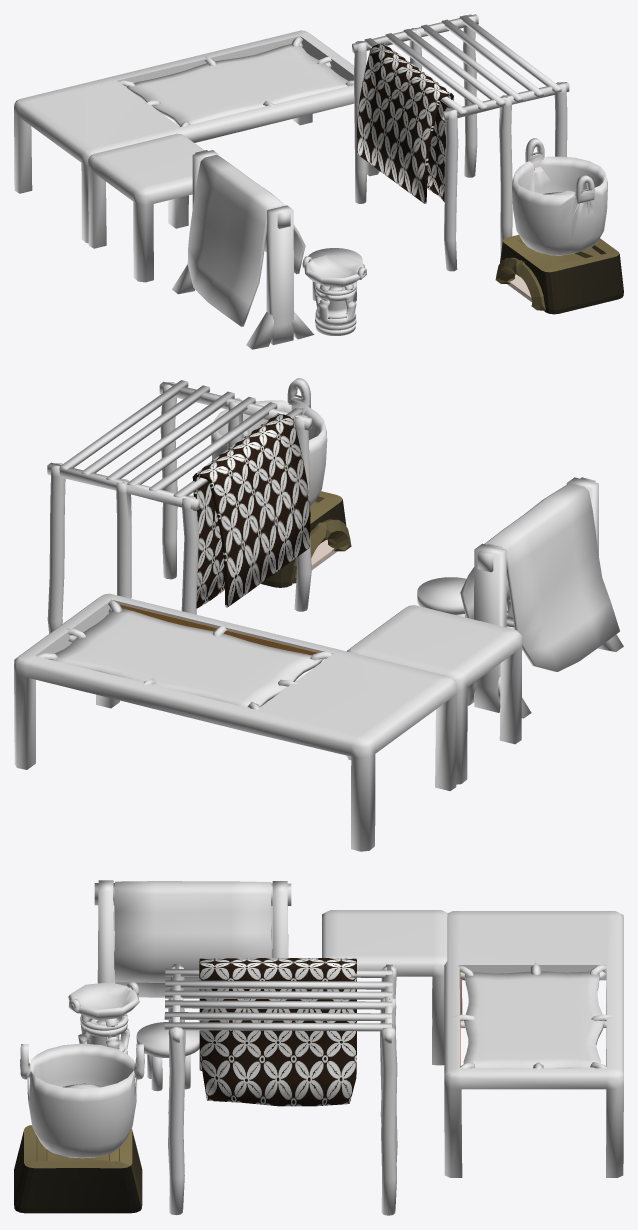
The model's file is Workspace lv1.fbx.
3 views of the same model, one above another, from view 1: azimuth 30°, elevation 25°; view 2: azimuth 150°, elevation 25°; view 3: azimuth 270°, elevation 25° (orthographic). The views are drawn at different scales.
Parts seen in each view (by area): view 1: Cube.001, kain batik, Plane.006, Plane.001, Cube.006, Cube, Sphere, tungku, Cube.007, Cube.002, Cylinder.001, Sphere.001 (+2 smaller); view 2: Cube.001, Plane.006, kain batik, Plane.001, Cube.006, Cube, Cube.007, Cube.002, tungku, Sphere, kursi kecil, Torus; view 3: Cube.001, Plane.006, kain batik, Plane.001, Sphere, Cube.007, Cube, tungku, Cube.006, Cube.002, Sphere.001, kursi kecil (+2 smaller).
Part boxes in pixels (x1,y1,x2,y2): Cube.001: (14,30,379,243); kain batik: (187,155,305,326); Plane.006: (357,43,453,203); Plane.001: (127,44,347,126); Cube.006: (352,14,569,271); Cube: (88,133,204,282); Sphere: (512,138,607,255); tungku: (495,234,623,314); Cube.007: (364,15,561,115); Cube.002: (172,150,314,349); Cylinder.001: (315,282,356,335); Sphere.001: (302,255,366,287); Cube.001: (14,593,456,851); Plane.006: (192,413,310,608); kain batik: (460,483,619,671); Plane.001: (51,608,322,708); Cube.006: (47,381,311,633); Cube: (346,605,522,784); Cube.007: (60,380,302,497); Cube.002: (467,477,623,718); tungku: (261,491,351,587); Sphere: (211,378,327,507); kursi kecil: (417,577,466,617); Torus: (36,599,332,709); Cube.001: (444,911,623,1177); Plane.006: (199,958,356,1106); kain batik: (114,881,271,997); Plane.001: (463,971,604,1068); Sphere: (20,1043,144,1158); Cube.007: (164,968,392,1031); Cube: (321,910,447,1065); tungku: (14,1125,142,1213); Cube.006: (168,964,397,1215); Cube.002: (97,880,288,983); Sphere.001: (68,982,139,1020); kursi kecil: (136,1022,199,1091).
Bounding box in the file's own units: 877 × 389 × 1097.
10 materials, 5 textured.
